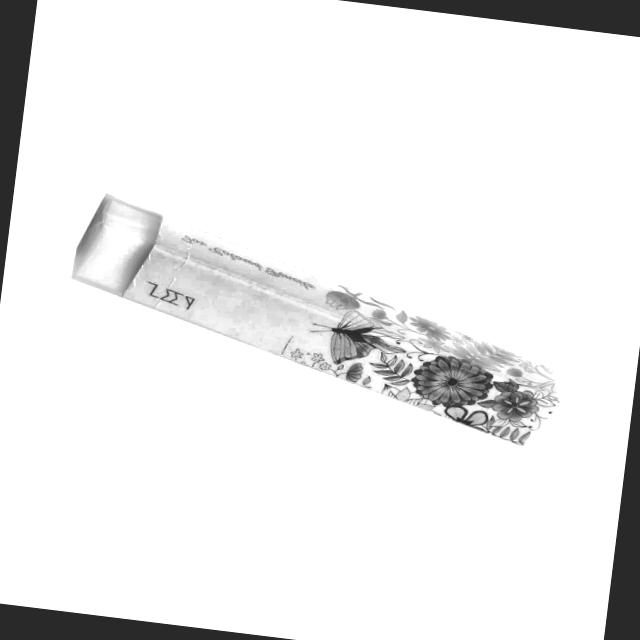eraser: (51, 185, 578, 452)
